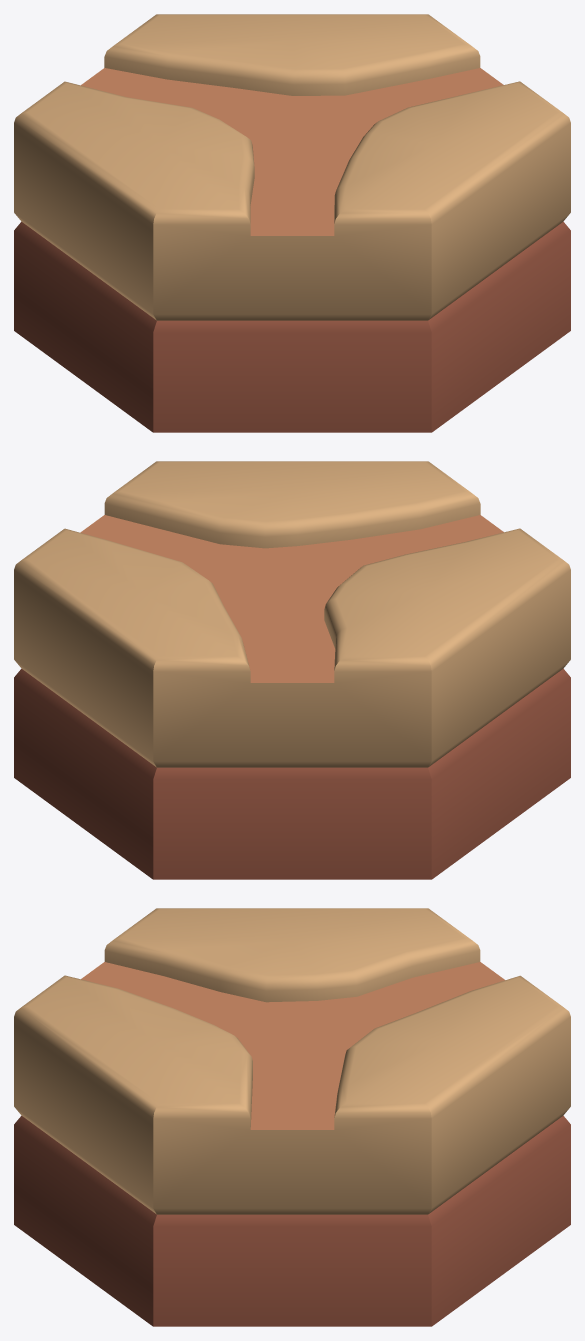
Rendered from kaykit-hex-sand-roadg-detail.glb.
3 renders of one model, top to bottom at view 1: azimuth 30°, elevation 25°; view 2: azimuth 150°, elevation 25°; view 3: azimuth 270°, elevation 25°, orthographic.
Visible parts, largest first — view 1: hex_sand_roadG_detail; view 2: hex_sand_roadG_detail; view 3: hex_sand_roadG_detail.
Part boxes in pixels (bbox=[...]): hex_sand_roadG_detail: bbox=[14, 14, 570, 432]; hex_sand_roadG_detail: bbox=[14, 461, 570, 879]; hex_sand_roadG_detail: bbox=[14, 908, 570, 1326].
Bounding box in the file's own units: 2 × 1 × 2.31.
